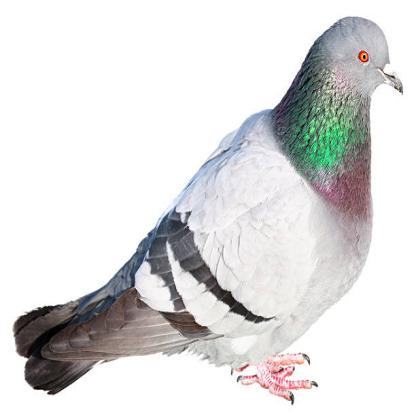Rock Pigeon: (26, 18, 404, 386)
